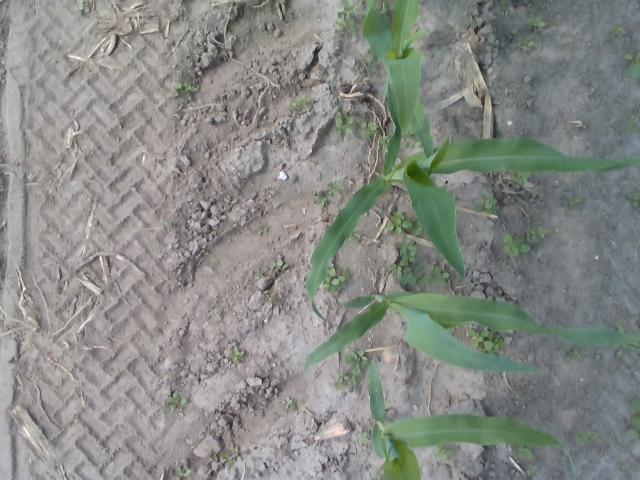Maize: (306, 84, 638, 327), (304, 290, 640, 372), (369, 357, 576, 480), (362, 0, 422, 141)
Weeds: (468, 330, 504, 351), (399, 265, 427, 288), (626, 398, 640, 440), (344, 350, 366, 374), (335, 110, 355, 136), (427, 266, 449, 286), (474, 196, 498, 214), (386, 218, 412, 234), (502, 235, 520, 258), (326, 269, 346, 289), (176, 82, 197, 101), (336, 17, 356, 34), (338, 0, 356, 18), (395, 242, 417, 256), (227, 346, 244, 364), (314, 190, 332, 206), (360, 122, 376, 139), (169, 393, 187, 408), (391, 261, 410, 275), (629, 55, 640, 79), (516, 448, 534, 462), (510, 172, 531, 183), (435, 446, 451, 460), (348, 378, 362, 394), (516, 38, 534, 50), (282, 396, 297, 410), (626, 193, 640, 208), (176, 465, 192, 477), (77, 0, 90, 14), (292, 95, 306, 108), (629, 114, 639, 132), (254, 267, 268, 279), (356, 432, 368, 446), (390, 211, 404, 223), (536, 227, 550, 238), (532, 15, 546, 26), (264, 290, 277, 301), (581, 432, 598, 440), (328, 181, 343, 190), (402, 253, 416, 262), (568, 198, 583, 206), (518, 244, 532, 252), (270, 260, 284, 268), (527, 234, 538, 244), (612, 26, 624, 35), (568, 350, 578, 360), (527, 466, 537, 476), (338, 372, 348, 382), (218, 452, 230, 460), (381, 1, 388, 14), (175, 408, 185, 417), (334, 382, 344, 390), (411, 227, 421, 235), (524, 228, 535, 235), (164, 221, 173, 228), (626, 54, 636, 60), (258, 228, 265, 235), (500, 0, 506, 8), (354, 229, 359, 238), (216, 311, 222, 318)
